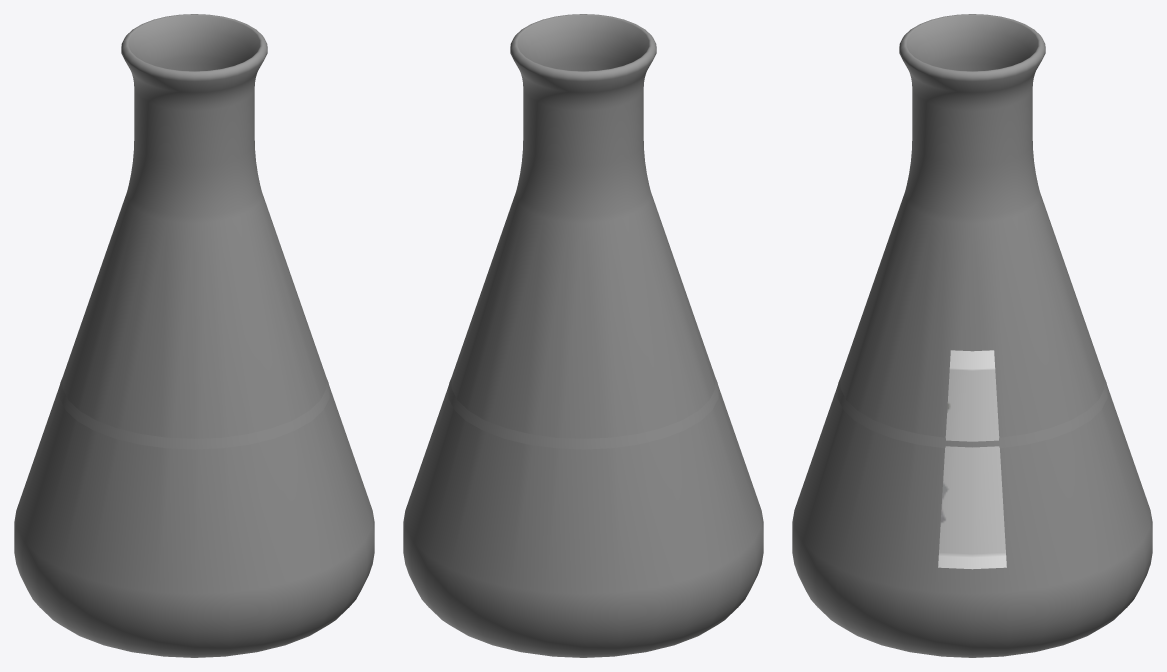
3 views of the same model, side by side, from view 1: azimuth 30°, elevation 25°; view 2: azimuth 150°, elevation 25°; view 3: azimuth 270°, elevation 25° (orthographic).
Visible parts, largest first — view 1: SM_烧瓶_001; view 2: SM_烧瓶_001; view 3: SM_烧瓶_001.
Boxes of the visible parts, x1=… form: SM_烧瓶_001: x1=14, y1=14, x2=374, y2=657; SM_烧瓶_001: x1=403, y1=14, x2=763, y2=657; SM_烧瓶_001: x1=792, y1=14, x2=1152, y2=657.
Bounding box in the file's own units: 0.2145 × 0.3622 × 0.2133.
